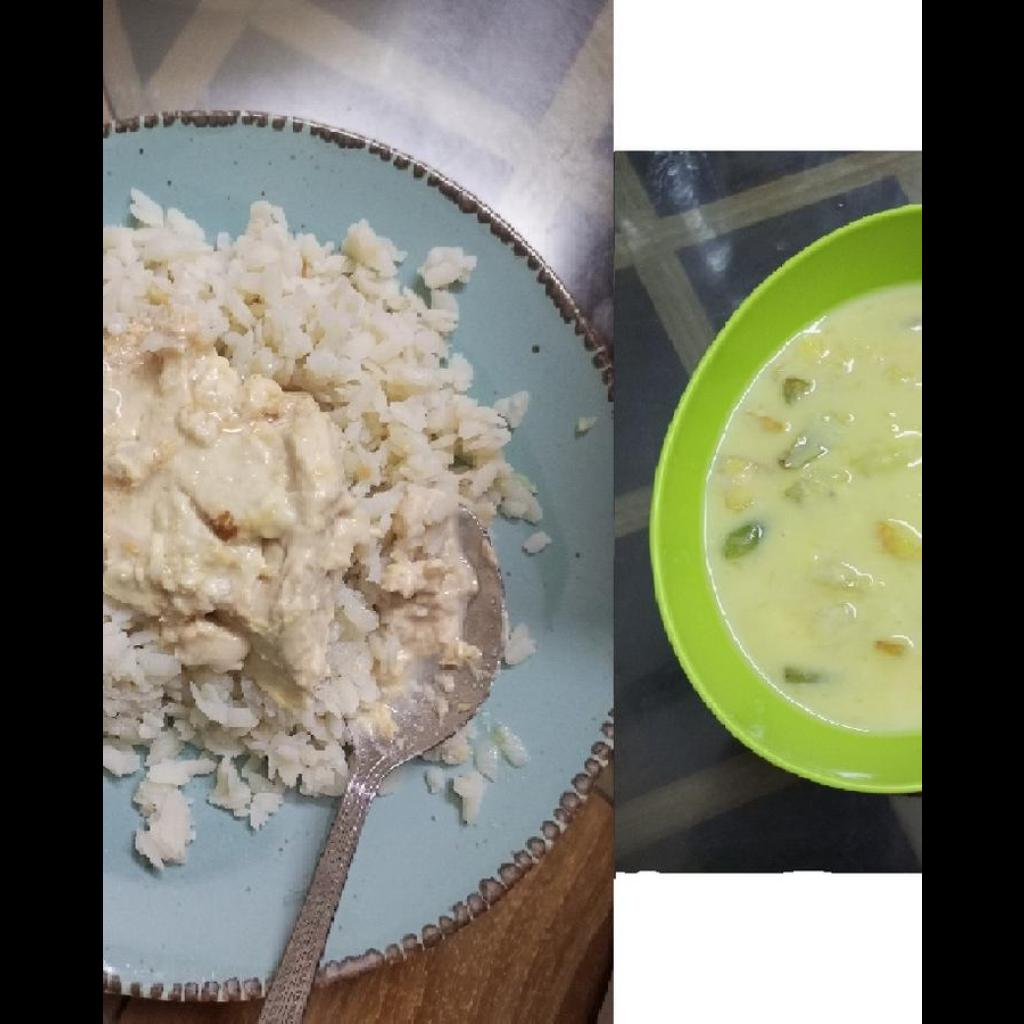payesh: (102, 193, 529, 865), (703, 281, 919, 736), (424, 713, 525, 825)
